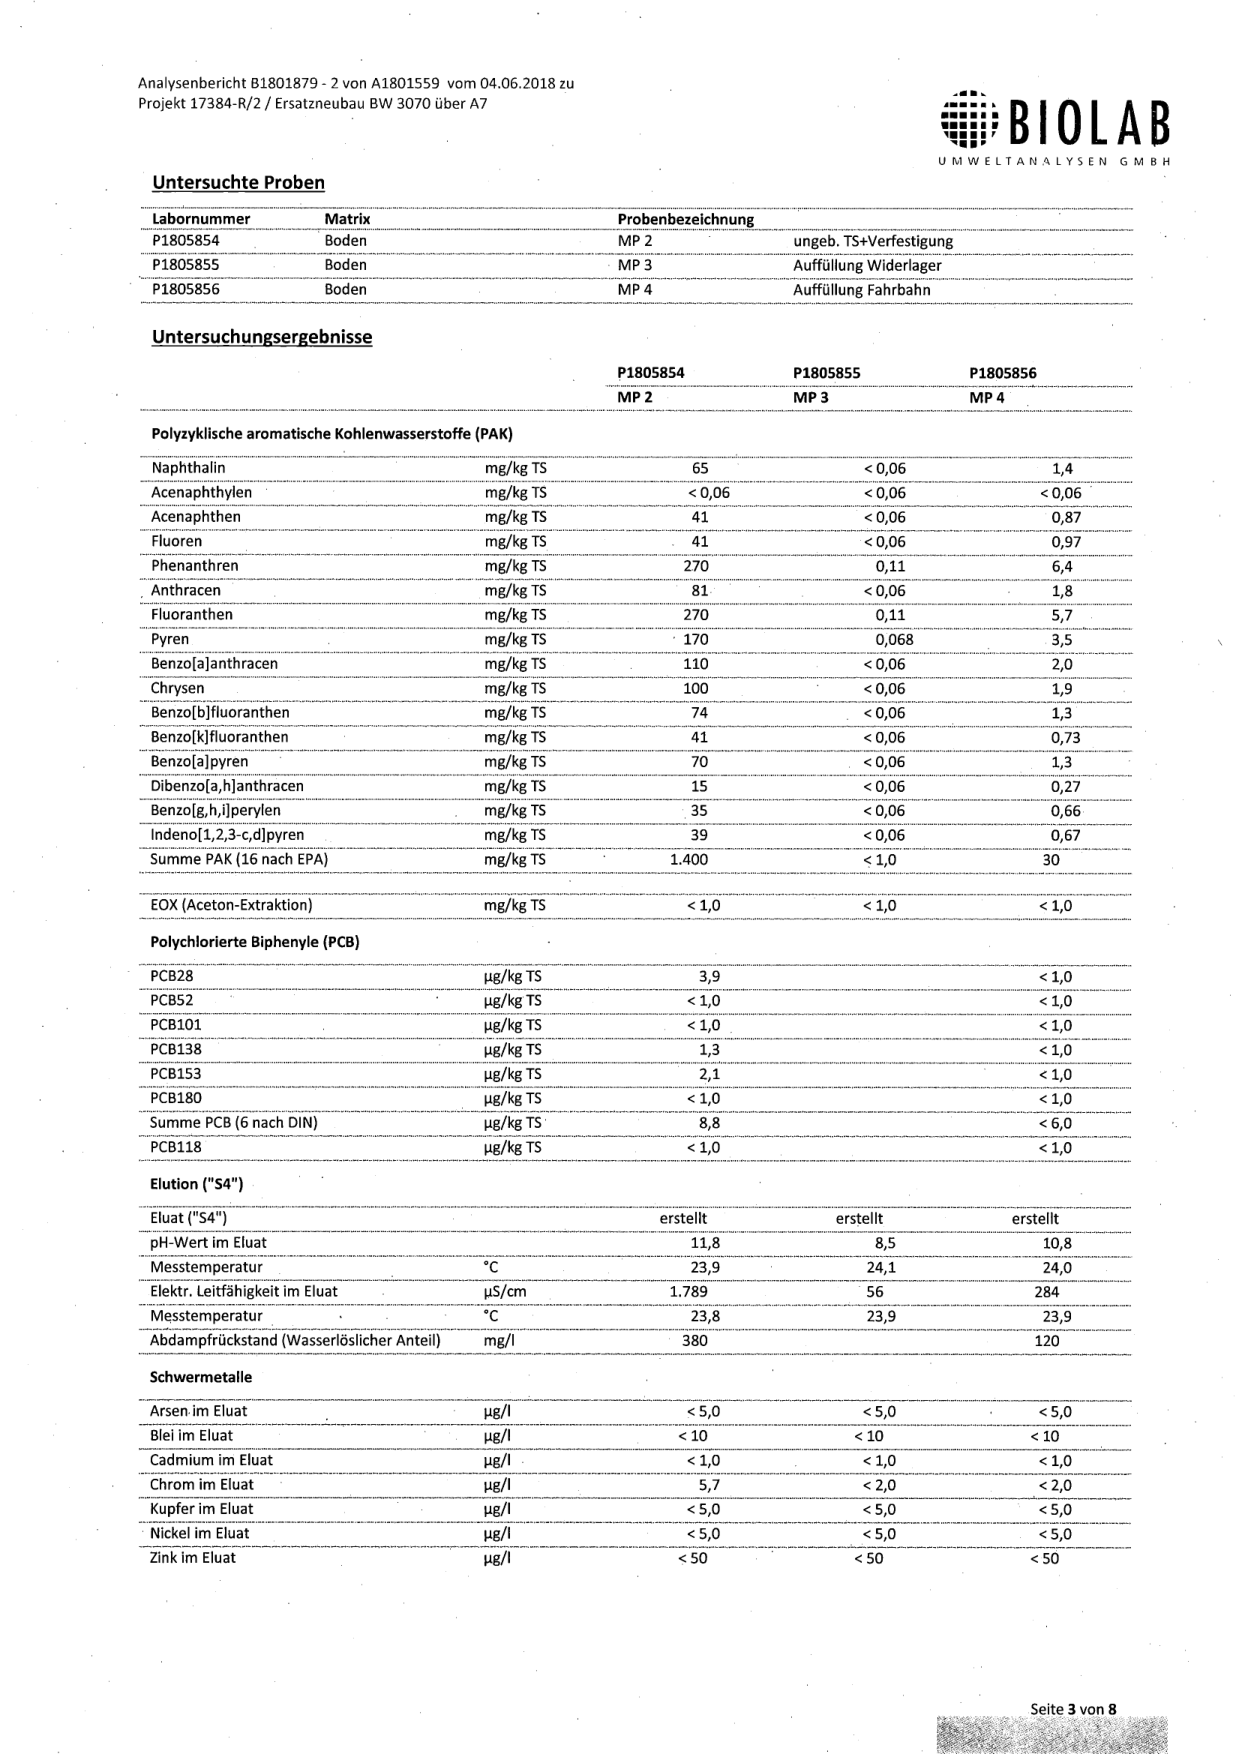table: (132, 447, 1143, 925), (130, 955, 1143, 1167), (133, 1391, 1140, 1579), (133, 1197, 1136, 1365), (140, 197, 1142, 314)
